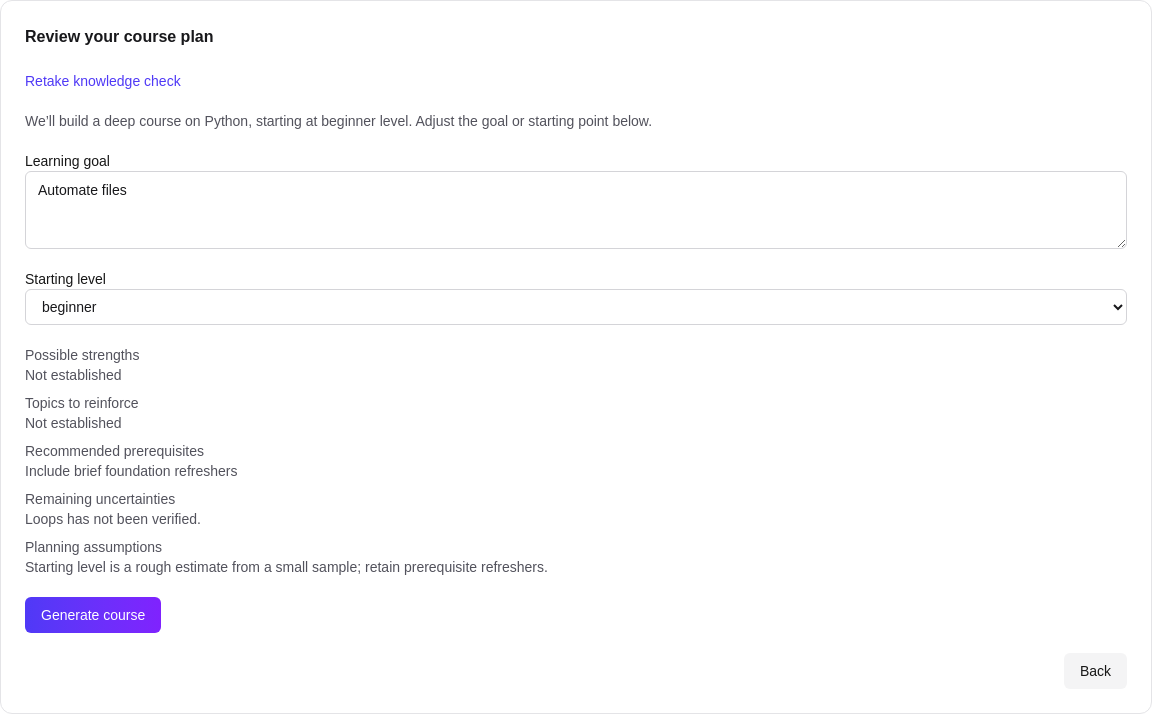
can start a fresh assessment from a saved summary
Expected: the heading "Review your course plan" is shown, [25,25,214,49]
Click the button "Retake knowledge check" at (103, 81), box [25,71,181,91]
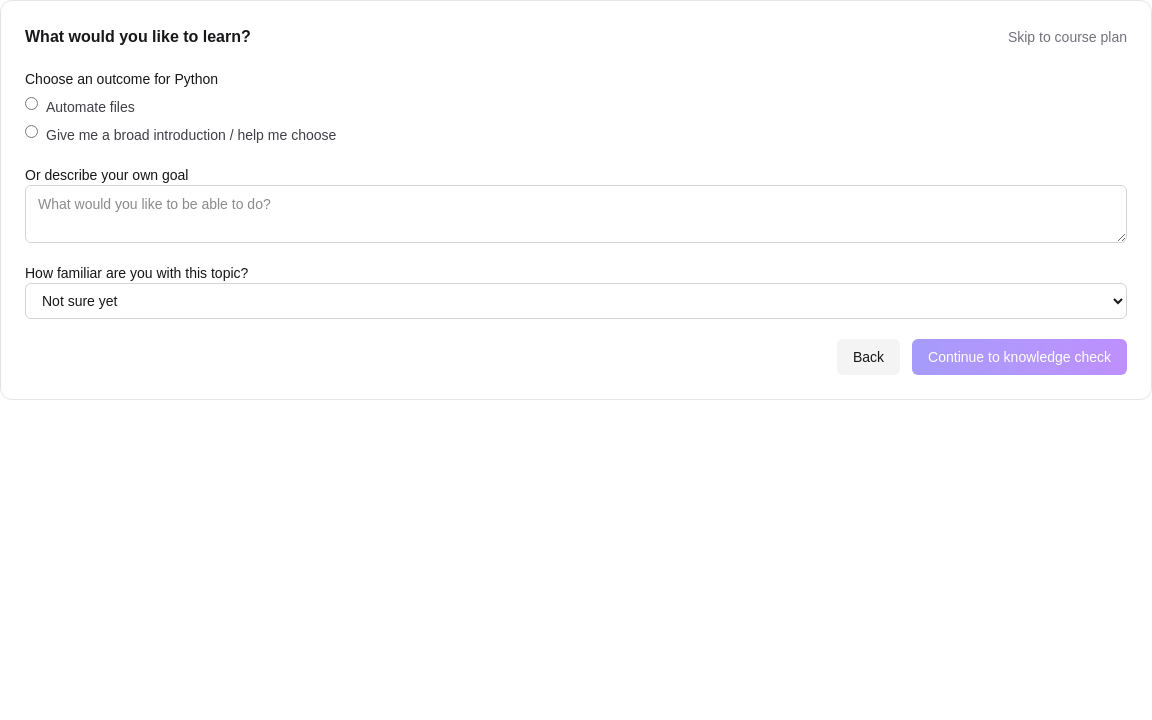
Expected: the heading "What would you like to learn?" is shown, [25,25,251,49]
